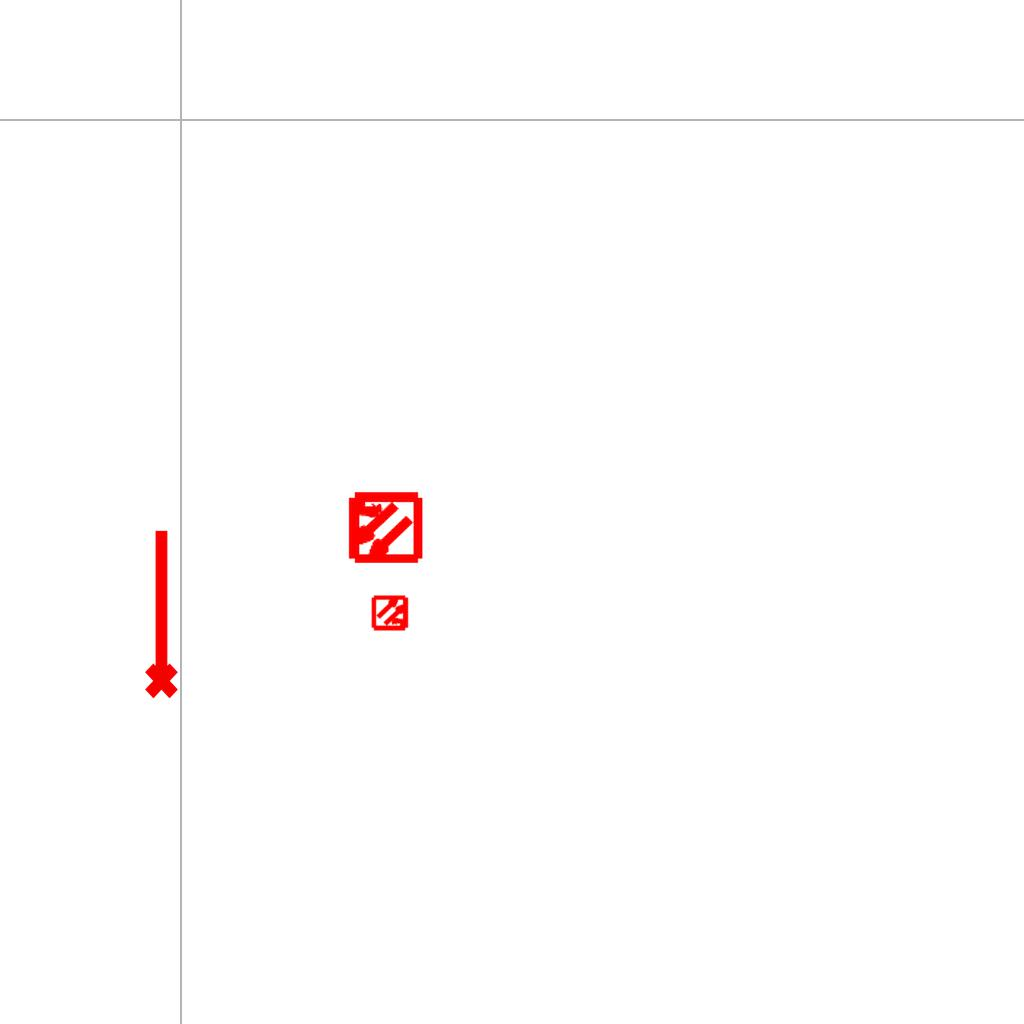ASR_Ansaugoeffnung: (136, 525, 182, 701)
OT_Multisensormelder_(Kombination_RMO_WMD): (327, 471, 440, 584), (363, 585, 419, 641)
